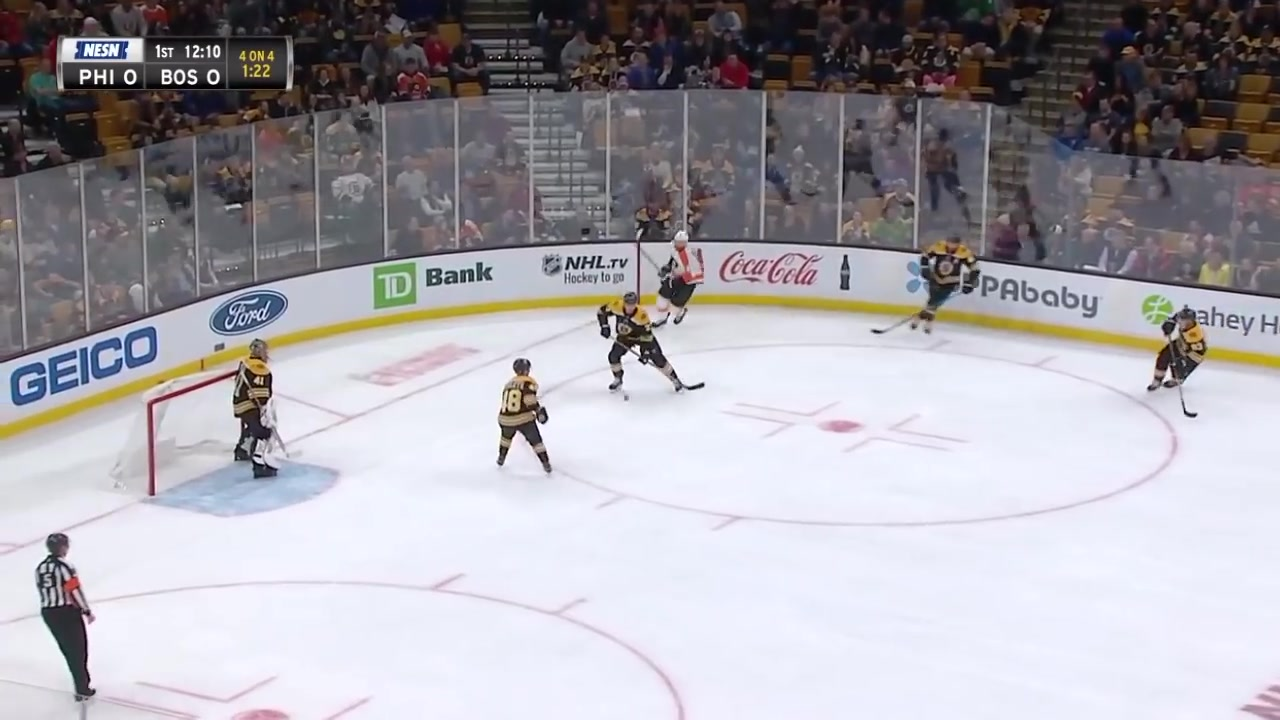Geico: (5, 325, 165, 422)
